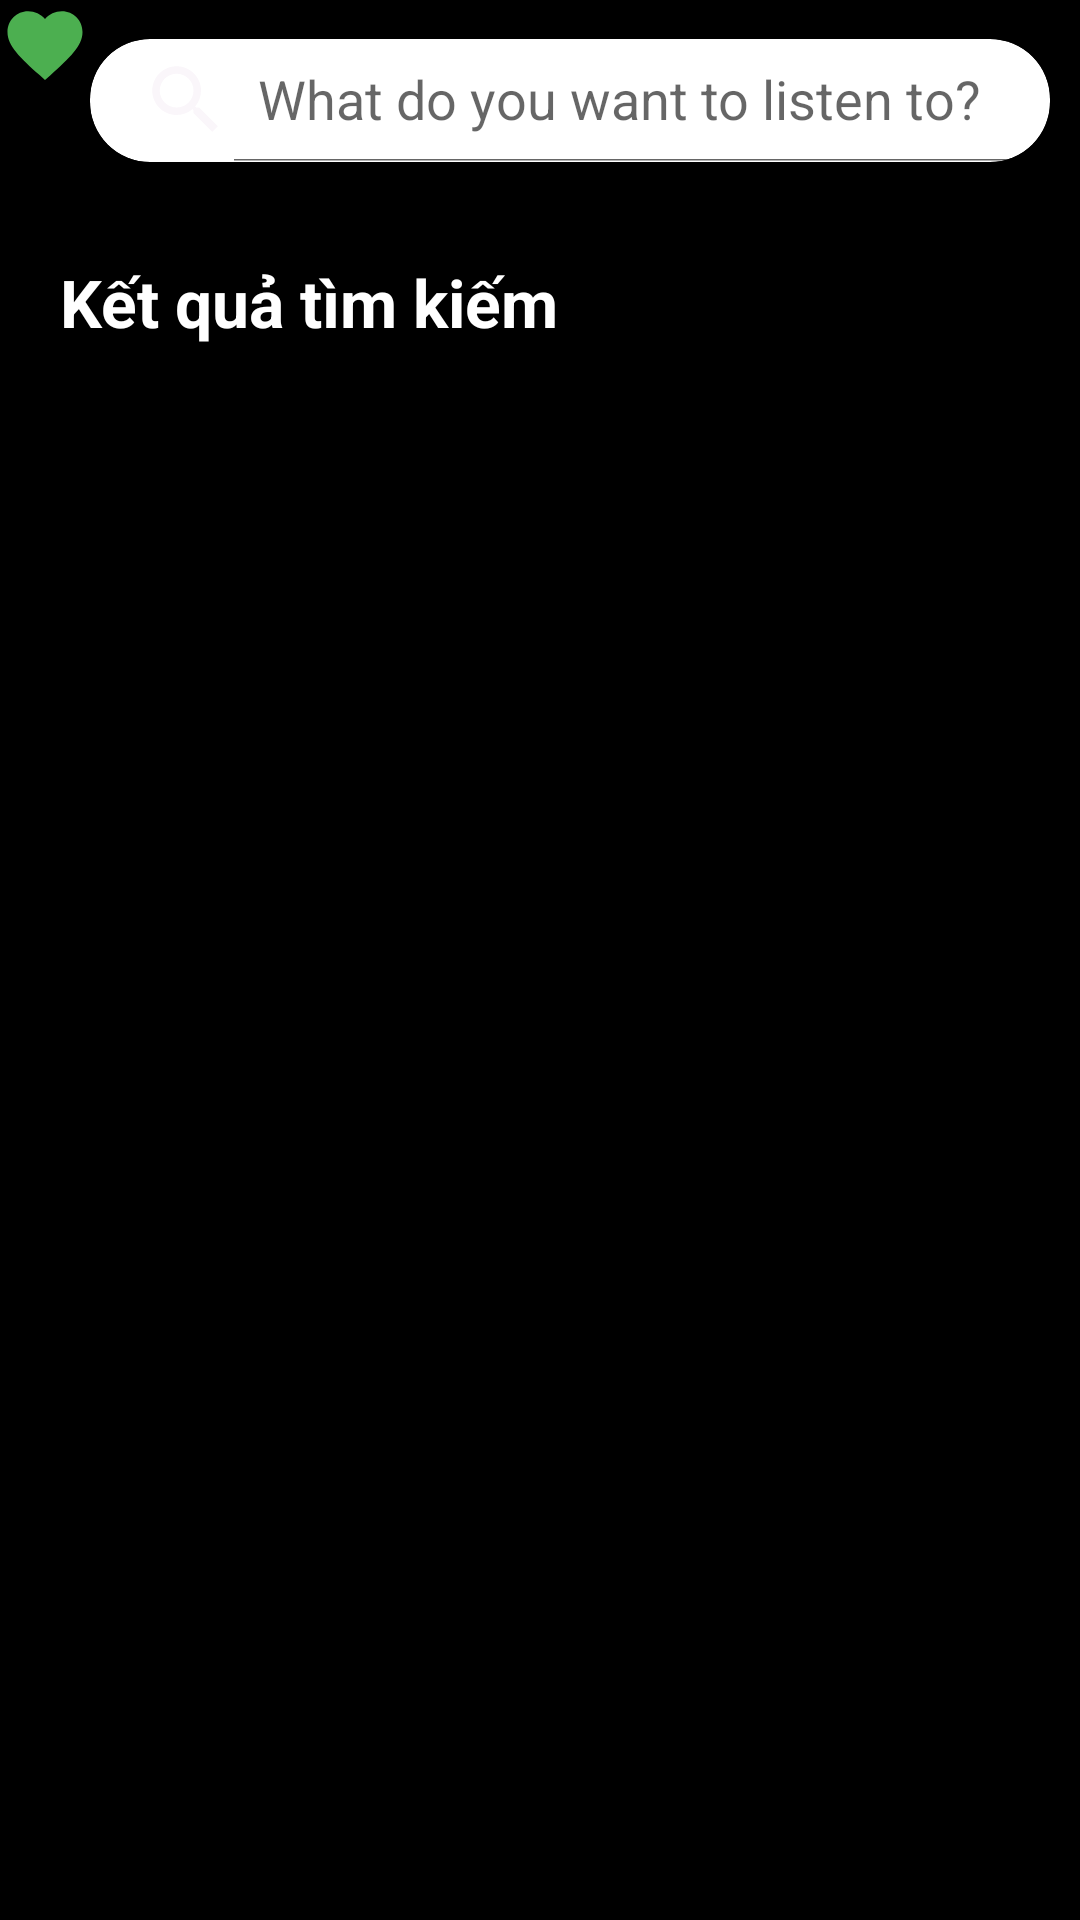

Icon bounding boxes for this 1080*1920 phone screenshot, format bbox=[x1, y1, x2, y2]:
favorite: bbox=[7, 11, 83, 80]
